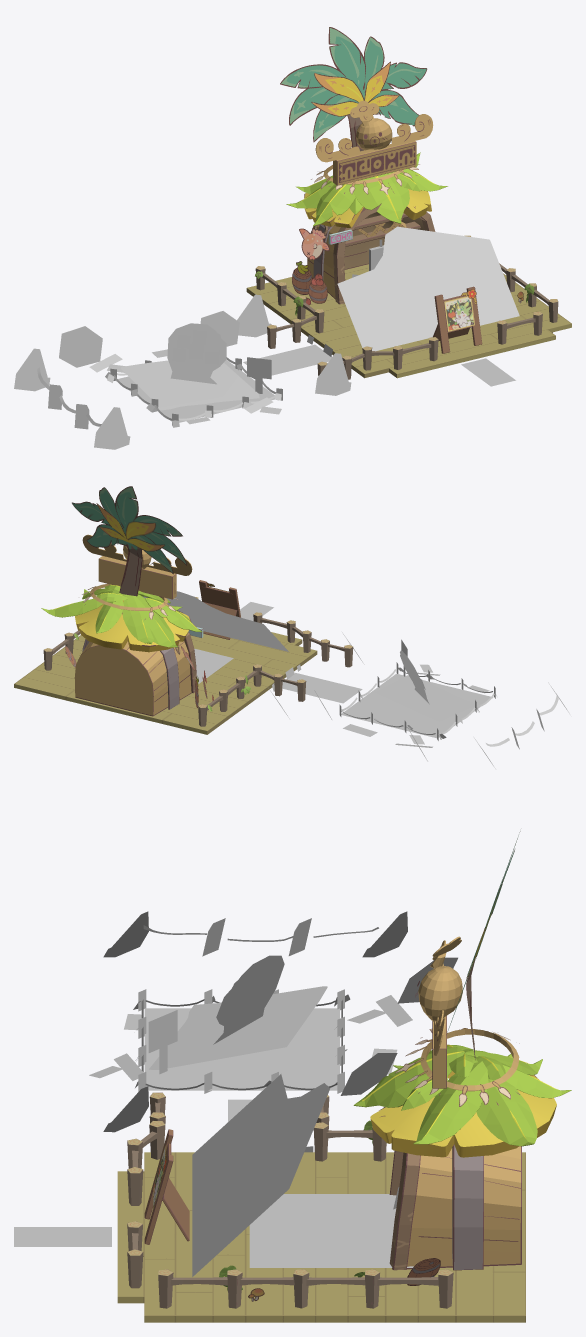
File: Mesh_Home_RF_FlashMob_SM.fbx
The picture shows the model from 3 angles, top to bottom: view 1: azimuth 30°, elevation 25°; view 2: azimuth 150°, elevation 25°; view 3: azimuth 270°, elevation 25°; orthographic projection. The views are drawn at different scales.
Visible parts, largest first — view 1: Mesh_Home_RF_FlashMob, Mesh_Home_RF_FlashMob_Cloth, Mesh_Home_RF_FlashMob_Field_02, Mesh_Home_RF_FlashMob_P, Mesh_Home_RF_FlashMob_Field, Mesh_Home_RF_FlashMob_Tree, Mesh_Home_RF_FlashMob_Land, Mesh_Home_RF_FlashMob_Apple, Mesh_Home_RF_FlashMob_Sign, Mesh_Home_RF_FlashMob_Sign_02, Mesh_Home_RF_FlashMob_Land_02; view 2: Mesh_Home_RF_FlashMob, Mesh_Home_RF_FlashMob_P, Mesh_Home_RF_FlashMob_Field, Mesh_Home_RF_FlashMob_Field_02, Mesh_Home_RF_FlashMob_Cloth, Mesh_Home_RF_FlashMob_Land, Mesh_Home_RF_FlashMob_Sign, Mesh_Home_RF_FlashMob_Carpet, Mesh_Home_RF_FlashMob_Tree; view 3: Mesh_Home_RF_FlashMob, Mesh_Home_RF_FlashMob_Field_02, Mesh_Home_RF_FlashMob_Cloth, Mesh_Home_RF_FlashMob_Field, Mesh_Home_RF_FlashMob_Carpet, Mesh_Home_RF_FlashMob_Tree, Mesh_Home_RF_FlashMob_P, Mesh_Home_RF_FlashMob_Land_02, Mesh_Home_RF_FlashMob_Sign.
Part boxes in pixels (left/top/right/bottom): Mesh_Home_RF_FlashMob: left=246, top=100, right=571, bottom=379; Mesh_Home_RF_FlashMob_Cloth: left=337, top=226, right=519, bottom=351; Mesh_Home_RF_FlashMob_Field_02: left=14, top=239, right=383, bottom=449; Mesh_Home_RF_FlashMob_P: left=280, top=27, right=523, bottom=305; Mesh_Home_RF_FlashMob_Field: left=105, top=357, right=282, bottom=427; Mesh_Home_RF_FlashMob_Tree: left=167, top=323, right=226, bottom=384; Mesh_Home_RF_FlashMob_Land: left=243, top=335, right=332, bottom=375; Mesh_Home_RF_FlashMob_Apple: left=172, top=330, right=219, bottom=364; Mesh_Home_RF_FlashMob_Sign: left=433, top=286, right=482, bottom=353; Mesh_Home_RF_FlashMob_Sign_02: left=444, top=289, right=476, bottom=331; Mesh_Home_RF_FlashMob_Land_02: left=461, top=358, right=515, bottom=386; Mesh_Home_RF_FlashMob: left=14, top=534, right=353, bottom=734; Mesh_Home_RF_FlashMob_P: left=65, top=486, right=213, bottom=707; Mesh_Home_RF_FlashMob_Field: left=339, top=662, right=496, bottom=740; Mesh_Home_RF_FlashMob_Field_02: left=268, top=632, right=569, bottom=768; Mesh_Home_RF_FlashMob_Cloth: left=142, top=591, right=288, bottom=651; Mesh_Home_RF_FlashMob_Land: left=272, top=664, right=362, bottom=703; Mesh_Home_RF_FlashMob_Sign: left=199, top=580, right=240, bottom=639; Mesh_Home_RF_FlashMob_Carpet: left=194, top=648, right=233, bottom=683; Mesh_Home_RF_FlashMob_Tree: left=400, top=650, right=429, bottom=704; Mesh_Home_RF_FlashMob: left=117, top=936, right=571, bottom=1322; Mesh_Home_RF_FlashMob_Field_02: left=89, top=911, right=457, bottom=1209; Mesh_Home_RF_FlashMob_Cloth: left=192, top=1074, right=330, bottom=1276; Mesh_Home_RF_FlashMob_Field: left=133, top=989, right=350, bottom=1093; Mesh_Home_RF_FlashMob_Carpet: left=249, top=1194, right=413, bottom=1267; Mesh_Home_RF_FlashMob_Tree: left=213, top=955, right=284, bottom=1044; Mesh_Home_RF_FlashMob_P: left=248, top=831, right=520, bottom=1301; Mesh_Home_RF_FlashMob_Land_02: left=14, top=1227, right=111, bottom=1246; Mesh_Home_RF_FlashMob_Sign: left=144, top=1129, right=189, bottom=1244.
Bounding box in the file's own units: 1232 × 648 × 767.
